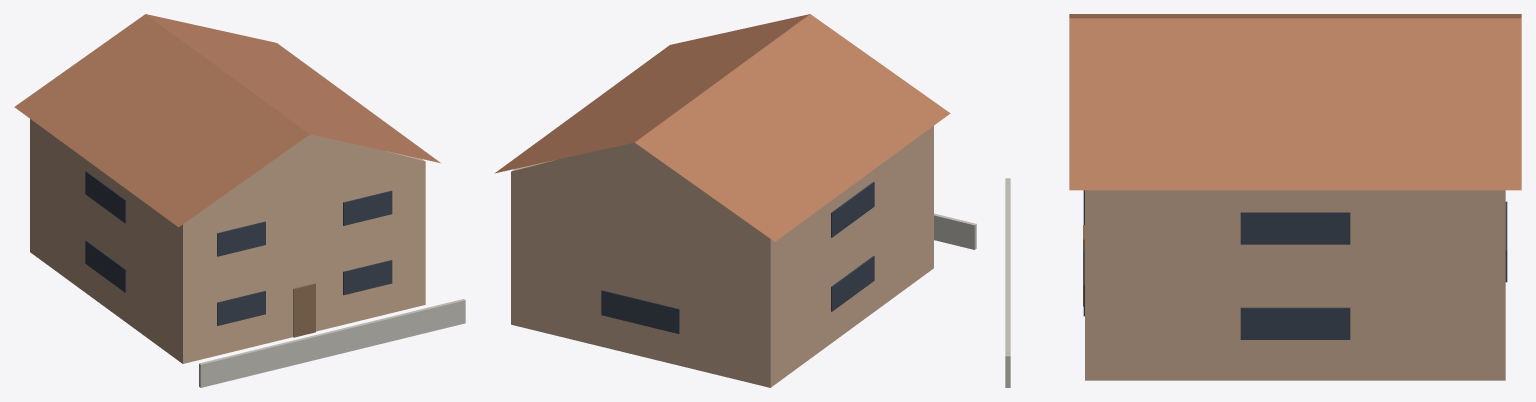
The model's file is casa_2.glb.
The picture shows the model from 3 angles, left to right: view 1: azimuth 30°, elevation 25°; view 2: azimuth 150°, elevation 25°; view 3: azimuth 270°, elevation 25°; orthographic projection. The views are drawn at different scales.
Parts seen in each view (by area): view 1: w, t, j, mu, por; view 2: w, t, j, mu; view 3: t, w, j, mu.
Part boxes in pixels (x1,y1,x2,y2): w: [30, 119, 425, 363]; t: [14, 14, 440, 227]; j: [85, 171, 392, 325]; mu: [199, 299, 465, 387]; por: [293, 283, 315, 337]; w: [511, 126, 933, 387]; t: [495, 14, 950, 241]; j: [601, 182, 874, 333]; mu: [934, 213, 976, 249]; t: [1069, 14, 1521, 190]; w: [1085, 190, 1505, 380]; j: [1083, 190, 1507, 339]; mu: [1005, 178, 1010, 387].
Size of the model in its own units: 12 by 8.84 by 14.72.
